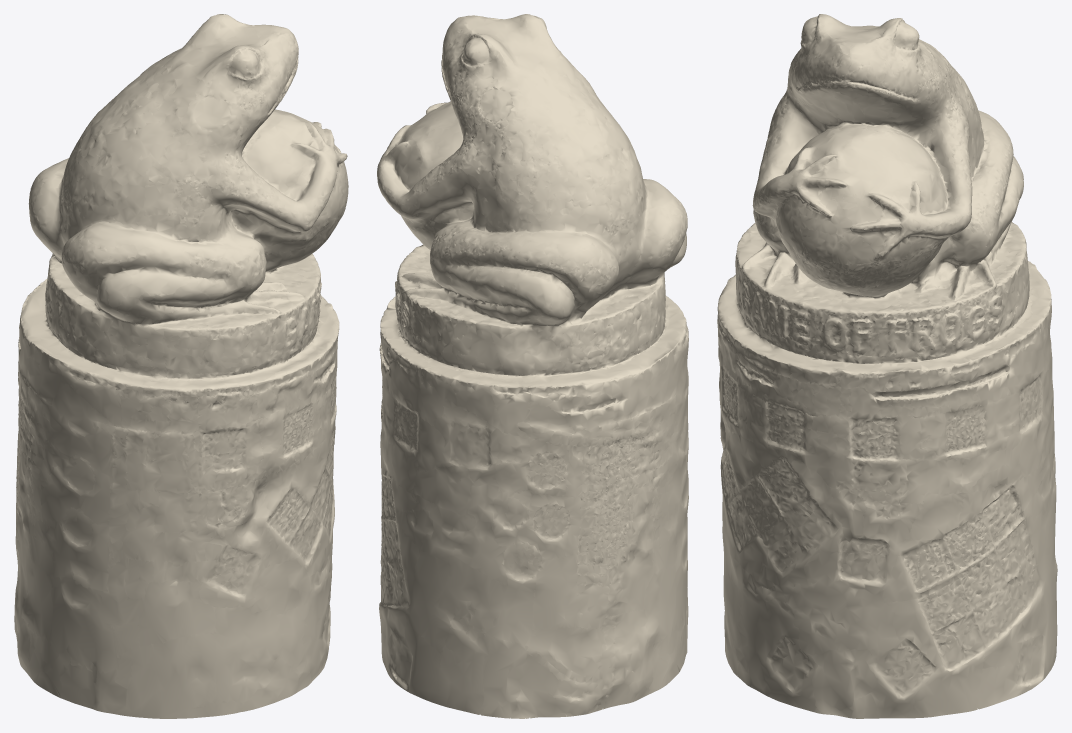
The model's file is Prototype_web.glb.
3 renders of one model, left to right at view 1: azimuth 30°, elevation 25°; view 2: azimuth 150°, elevation 25°; view 3: azimuth 270°, elevation 25°, orthographic. The views are drawn at different scales.
Parts seen in each view (by area): view 1: Object_3; view 2: Object_3; view 3: Object_3.
Part boxes in pixels (x1,y1,x2,y2): Object_3: (14,14,348,718); Object_3: (377,14,688,718); Object_3: (717,14,1057,718).
Size of the model in its own units: 0.421 by 0.8689 by 0.4079.
